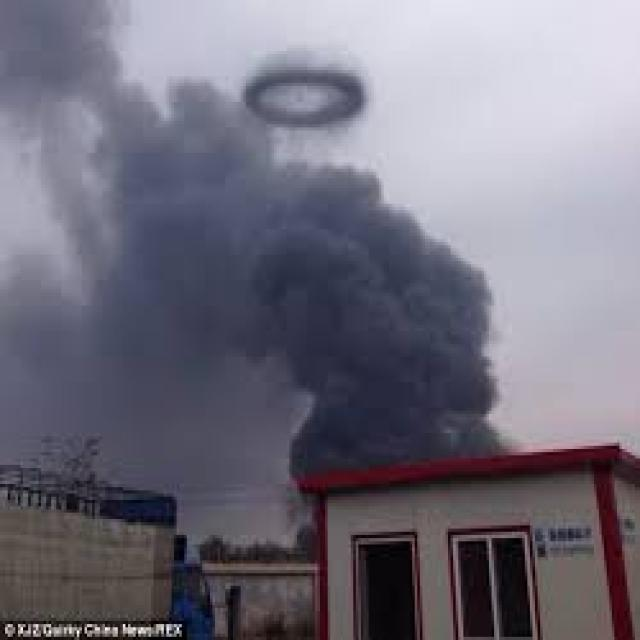Smoke: (0, 0, 504, 484)
